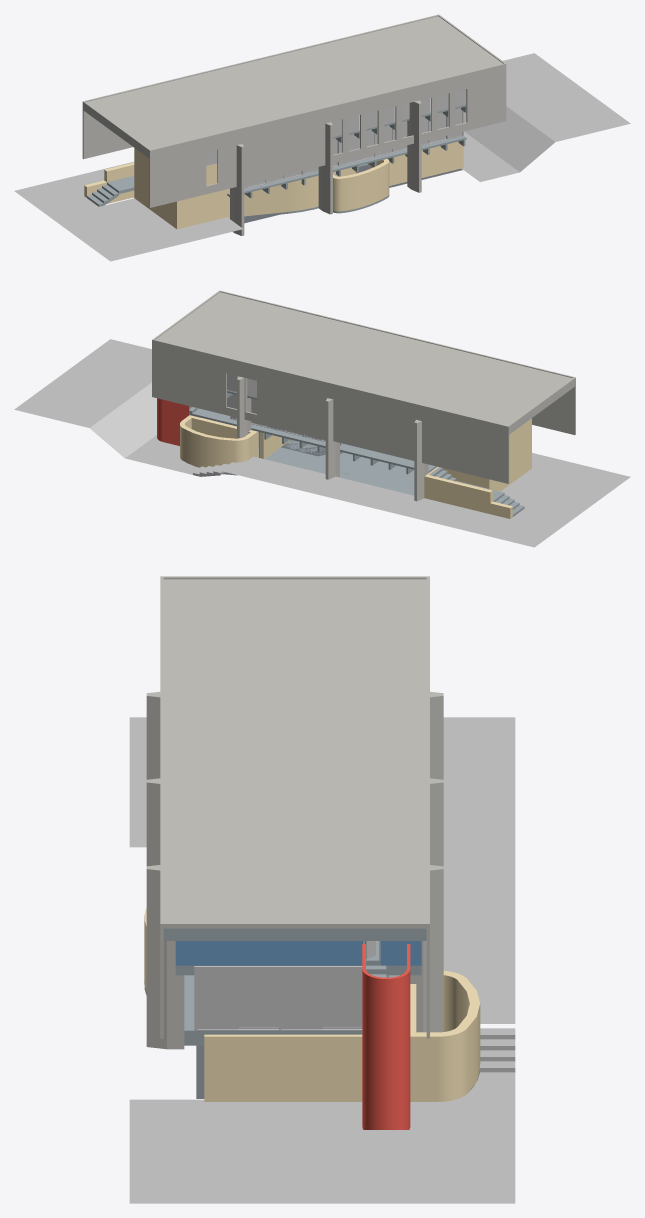
Rendered from House.glb.
The picture shows the model from 3 angles, top to bottom: view 1: azimuth 30°, elevation 25°; view 2: azimuth 150°, elevation 25°; view 3: azimuth 270°, elevation 25°; orthographic projection. The views are drawn at different scales.
Parts seen in each view (by area): view 1: Roof slab, Concrete wall south, Wire, Stone wall.001, Rectangle008, Wire002, Slab border, Stone wall.002, Rectangle006, Concrete wall north, Pillar.002, Stone wall (+11 smaller); view 2: Roof slab, Concrete wall north, Wire, Rectangle008, Cut, Stone wall.002, Stone wall.001, Main slab.001, Wire002, Slab border, Main slab, Concrete wall south (+7 smaller); view 3: Roof slab, Rectangle008, Stone wall.002, Cut, Rectangle006, Wire, Stairs wall, Sliding window 230x220.009, Sliding window 230x220.010, Slab border, Pillar.002, Exterior wall.002 (+10 smaller).
Boxes of the visible parts, box(x1,y1,x2,y2) form: Roof slab: box(82, 16, 506, 152); Concrete wall south: box(149, 66, 506, 207); Wire: box(14, 165, 242, 261); Stone wall.001: box(84, 157, 395, 229); Rectangle008: box(503, 53, 630, 141); Wire002: box(464, 106, 555, 171); Slab border: box(82, 14, 506, 151); Stone wall.002: box(368, 141, 463, 184); Rectangle006: box(462, 131, 519, 181); Concrete wall north: box(82, 104, 132, 159); Pillar.002: box(407, 100, 421, 192); Stone wall: box(134, 148, 229, 207); Roof slab: box(152, 292, 575, 428); Concrete wall north: box(152, 342, 509, 483); Wire: box(430, 453, 630, 547); Rectangle008: box(14, 339, 151, 427); Cut: box(220, 456, 451, 521); Stone wall.002: box(180, 415, 290, 472); Stone wall.001: box(424, 447, 531, 518); Main slab.001: box(186, 440, 414, 495); Wire002: box(89, 382, 156, 457); Slab border: box(152, 290, 575, 427); Main slab: box(192, 408, 437, 472); Concrete wall south: box(532, 380, 575, 434); Roof slab: box(160, 579, 429, 928); Rectangle008: box(129, 1130, 515, 1203); Stone wall.002: box(204, 970, 480, 1101); Cut: box(443, 819, 515, 1023); Rectangle006: box(129, 1099, 515, 1129); Wire: box(129, 717, 515, 847); Stairs wall: box(362, 944, 410, 1129); Sliding window 230x220.009: box(196, 966, 279, 1030); Sliding window 230x220.010: box(280, 966, 362, 1030); Slab border: box(160, 576, 429, 925); Pillar.002: box(146, 865, 184, 1049); Exterior wall.002: box(175, 941, 363, 965).
Bounding box in the file's own units: 35.2 × 6.87 × 11.3.
